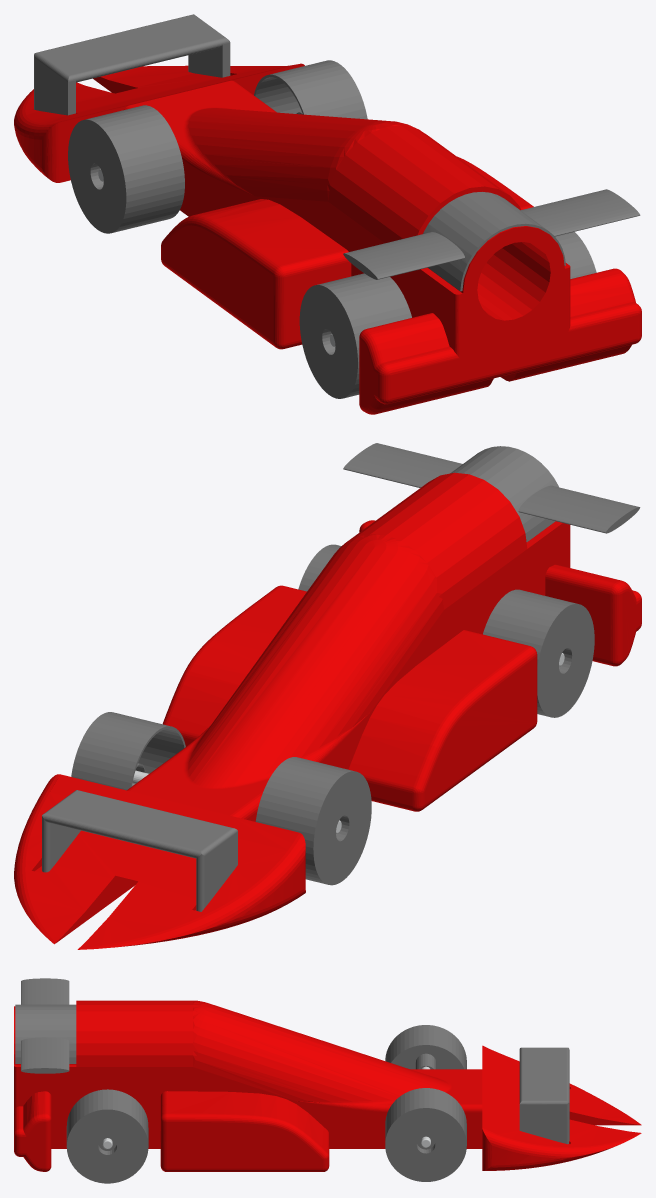
3 views of the same model, one above another, from view 1: azimuth 30°, elevation 25°; view 2: azimuth 150°, elevation 25°; view 3: azimuth 270°, elevation 25° (orthographic). The views are drawn at different scales.
Parts seen in each view (by area): view 1: ShapeIndexedFaceSet.003, ShapeIndexedFaceSet.010, ShapeIndexedFaceSet.007, ShapeIndexedFaceSet.011, ShapeIndexedFaceSet.008, ShapeIndexedFaceSet.002, ShapeIndexedFaceSet.001; view 2: ShapeIndexedFaceSet.003, ShapeIndexedFaceSet.007, ShapeIndexedFaceSet.010, ShapeIndexedFaceSet.011, ShapeIndexedFaceSet.008, ShapeIndexedFaceSet.002, ShapeIndexedFaceSet.001; view 3: ShapeIndexedFaceSet.003, ShapeIndexedFaceSet.001, ShapeIndexedFaceSet.002, ShapeIndexedFaceSet.007, ShapeIndexedFaceSet.011, ShapeIndexedFaceSet.010.
Boxes of the visible parts, x1,y1,x2,y2 form: ShapeIndexedFaceSet.003: (14, 63, 641, 414); ShapeIndexedFaceSet.010: (68, 105, 184, 233); ShapeIndexedFaceSet.007: (343, 189, 640, 291); ShapeIndexedFaceSet.011: (34, 14, 230, 115); ShapeIndexedFaceSet.008: (299, 273, 411, 398); ShapeIndexedFaceSet.002: (254, 60, 367, 119); ShapeIndexedFaceSet.001: (555, 232, 596, 278); ShapeIndexedFaceSet.003: (14, 472, 641, 949); ShapeIndexedFaceSet.007: (343, 443, 640, 541); ShapeIndexedFaceSet.010: (255, 757, 371, 885); ShapeIndexedFaceSet.011: (42, 790, 237, 911); ShapeIndexedFaceSet.008: (483, 589, 594, 717); ShapeIndexedFaceSet.002: (71, 712, 185, 790); ShapeIndexedFaceSet.001: (298, 544, 341, 591); ShapeIndexedFaceSet.003: (14, 1000, 641, 1171); ShapeIndexedFaceSet.001: (66, 1089, 148, 1183); ShapeIndexedFaceSet.002: (385, 1088, 466, 1181); ShapeIndexedFaceSet.007: (15, 978, 76, 1073); ShapeIndexedFaceSet.011: (519, 1047, 569, 1144); ShapeIndexedFaceSet.010: (385, 1025, 466, 1069).
Size of the model in its own units: 6.8 by 4.81 by 20.12.
